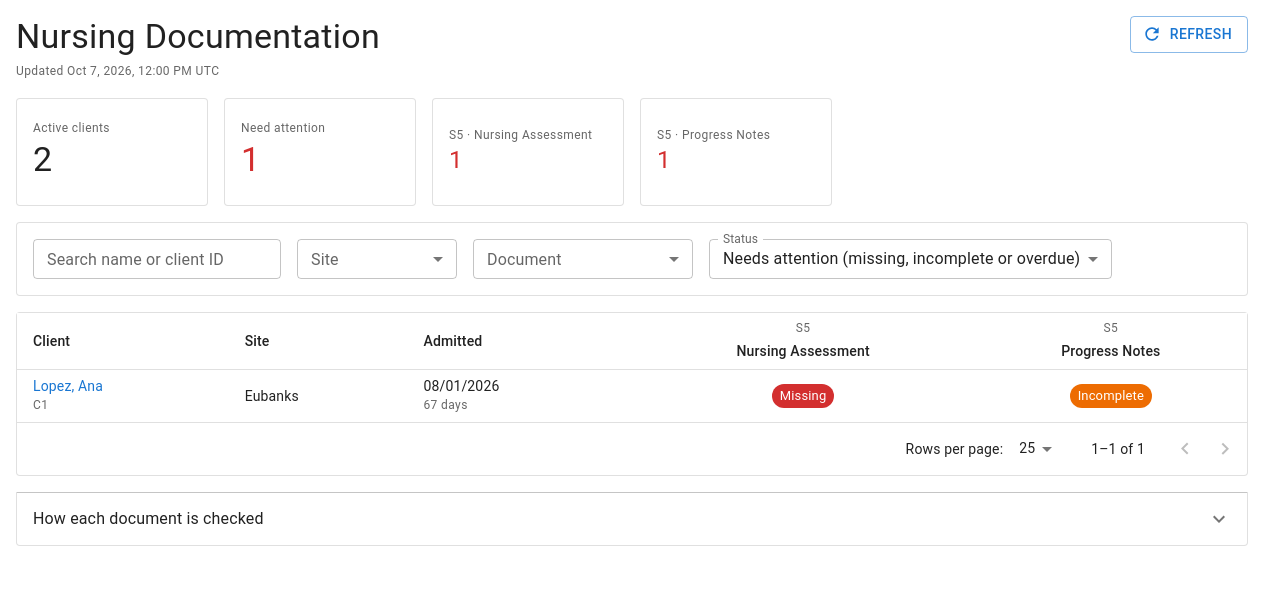
Test: DocumentationReport › shows every active client when the status filter is cleared
Expected: the link "Lopez, Ana" is shown, x1=33 y1=378 x2=103 y2=394
Step 1. Press the mouse on the dropdown named "Status" → (902, 259), box x1=723 y1=250 x2=1080 y2=268
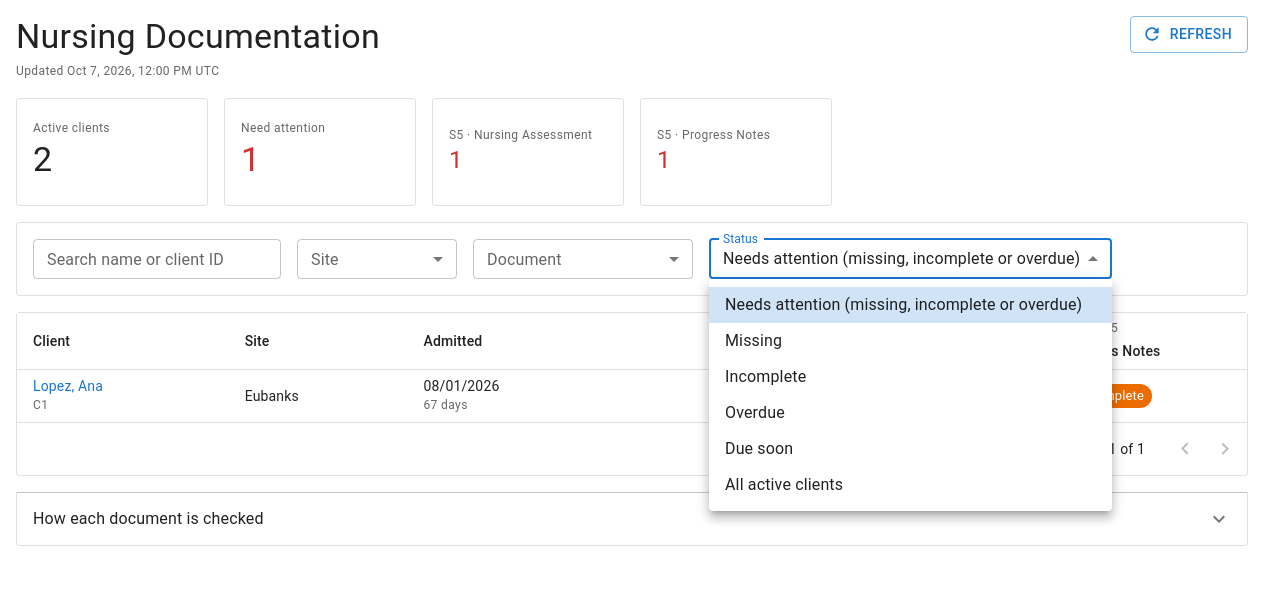
Step 2. Click the option "All active clients" → (784, 484), box x1=725 y1=475 x2=843 y2=494
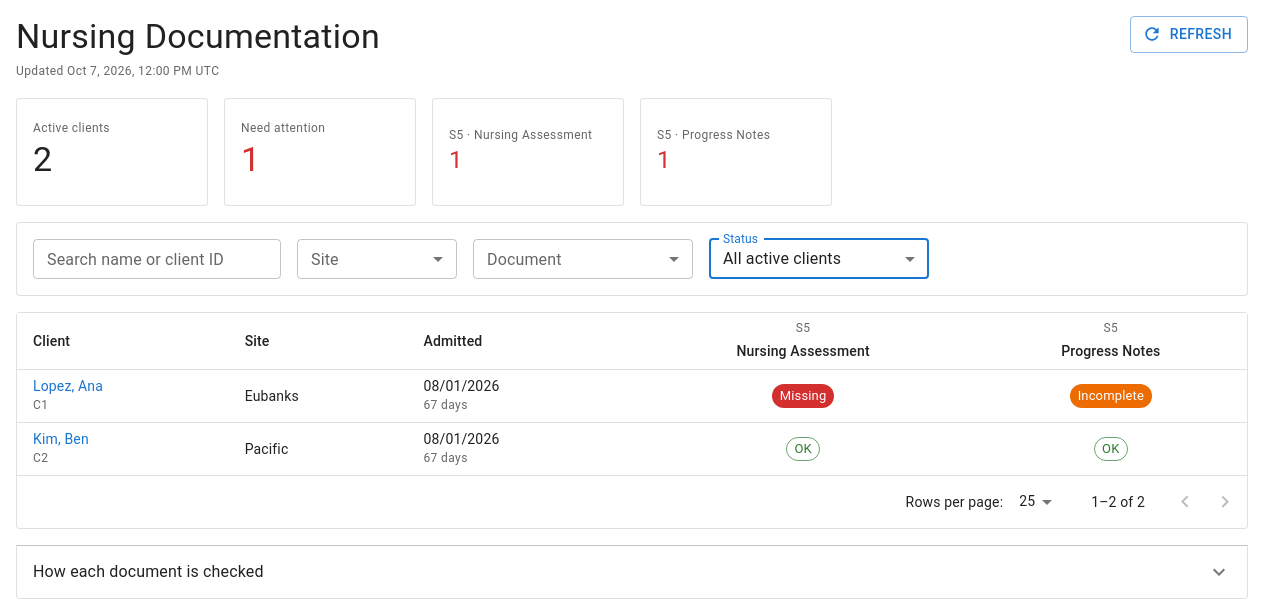
Expected: the link "Kim, Ben" is shown, x1=33 y1=431 x2=89 y2=447
